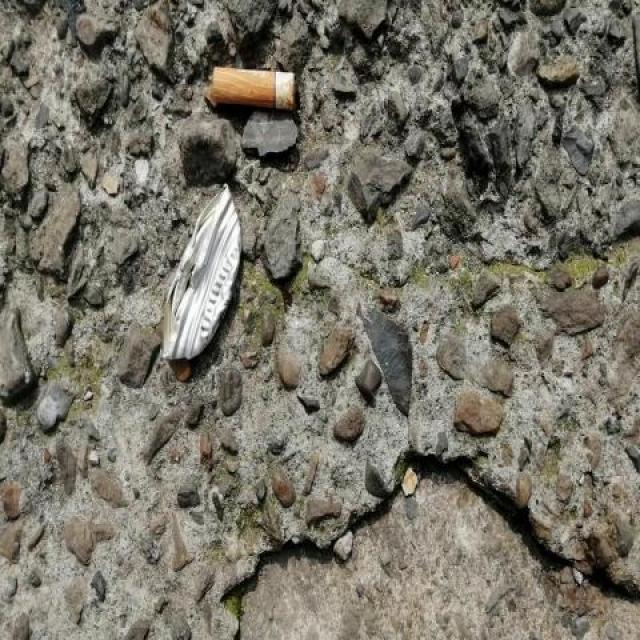non-organic waste: (207, 62, 302, 121)
